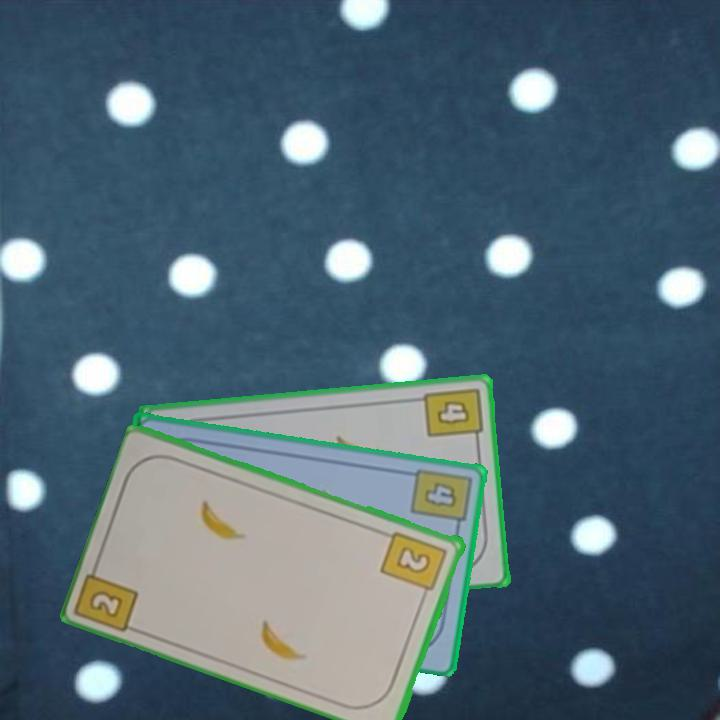2b: (378, 527, 451, 602), (75, 555, 142, 634)
4b: (407, 464, 474, 535), (420, 383, 485, 448)
